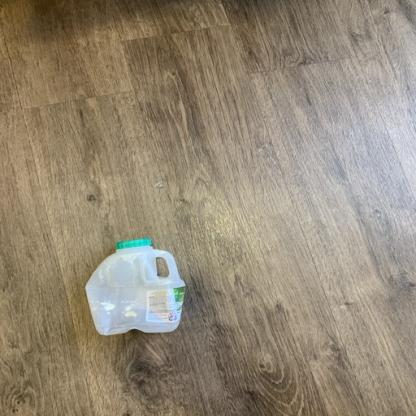trash: (91, 236, 190, 338)
